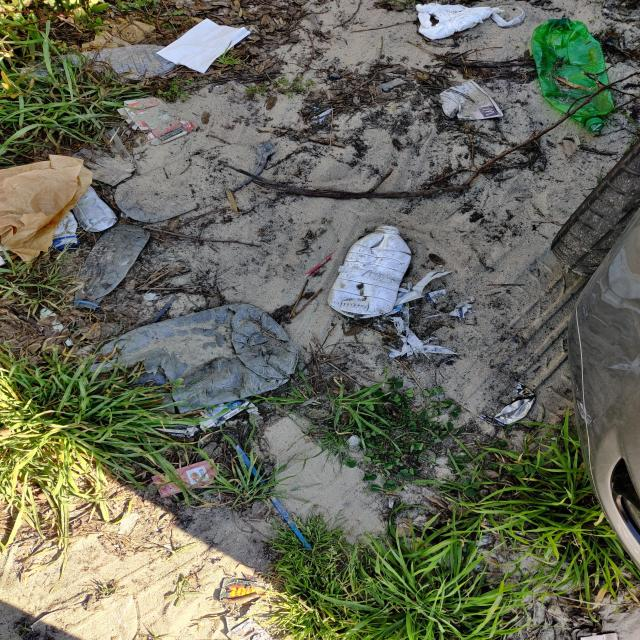litter: (563, 31, 593, 65), (185, 37, 231, 52), (357, 257, 389, 276)
